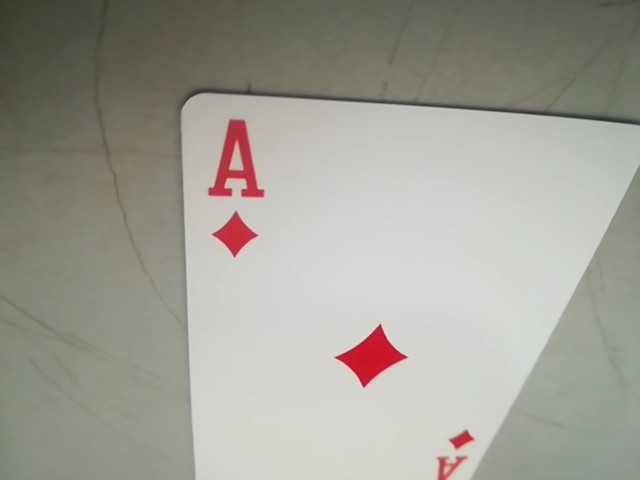fk a: (200, 101, 267, 204), (429, 424, 481, 480)
